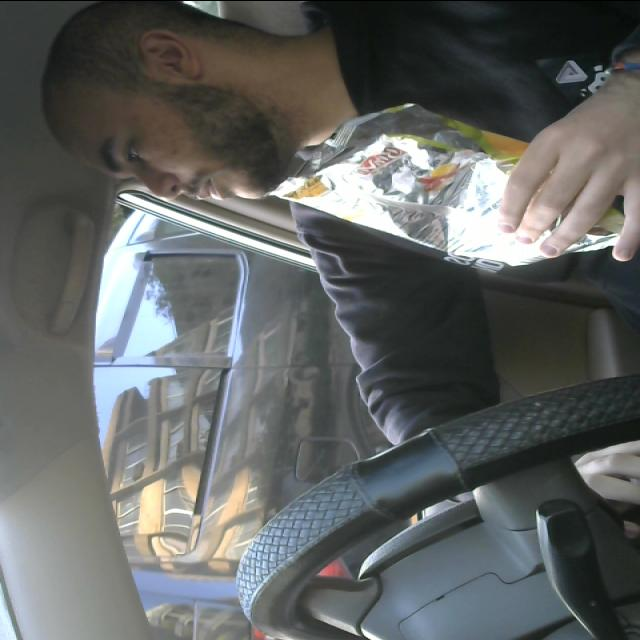eating: (274, 99, 640, 281)
